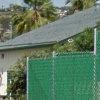Palm tree: (12, 1, 61, 28)
